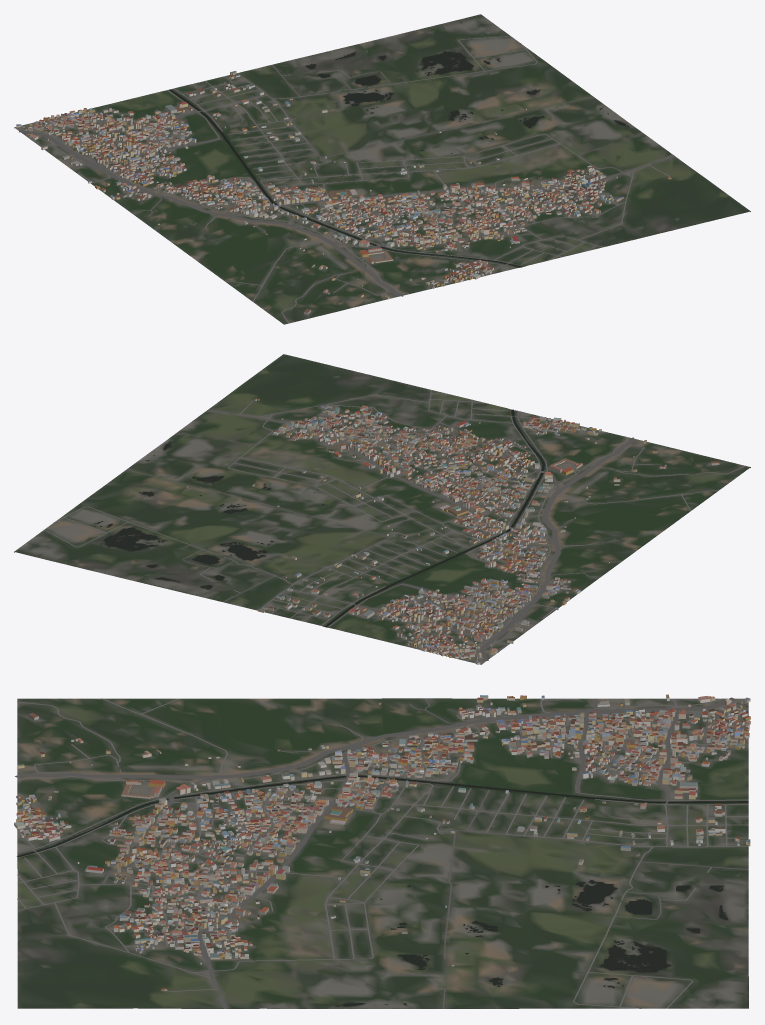
3 views of the same model, one above another, from view 1: azimuth 30°, elevation 25°; view 2: azimuth 150°, elevation 25°; view 3: azimuth 270°, elevation 25° (orthographic). The views are drawn at different scales.
Visible parts, largest first — view 1: ground, buildings, roads, water; view 2: ground, buildings, roads, water; view 3: ground, buildings, roads, water.
Part boxes in pixels (box(x1,y1,x2,y2)): ground: box(14, 14, 750, 324); buildings: box(16, 71, 671, 314); roads: box(15, 36, 674, 323); water: box(169, 51, 629, 267); ground: box(14, 354, 750, 664); buildings: box(186, 398, 719, 664); roads: box(44, 390, 745, 664); water: box(94, 409, 544, 627); ground: box(17, 698, 748, 1008); buildings: box(14, 694, 750, 991); roads: box(15, 697, 748, 1008); water: box(17, 775, 748, 1006).
Size of the model in its own units: 1409 by 28.54 by 1413.
